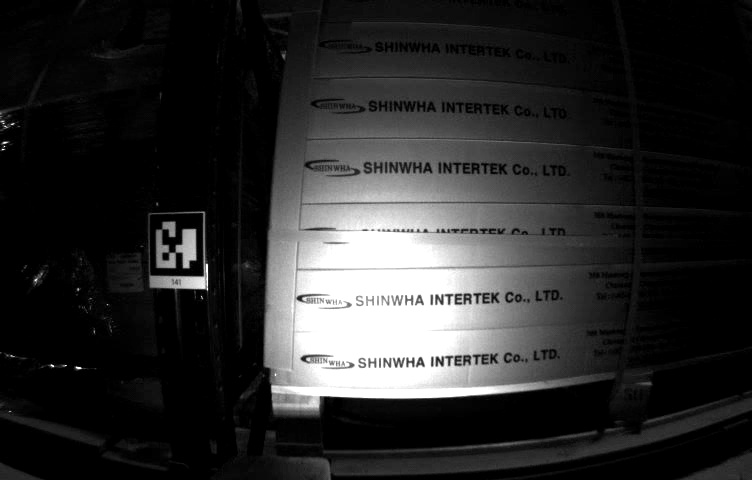True Barcode: (106, 252, 141, 294)
